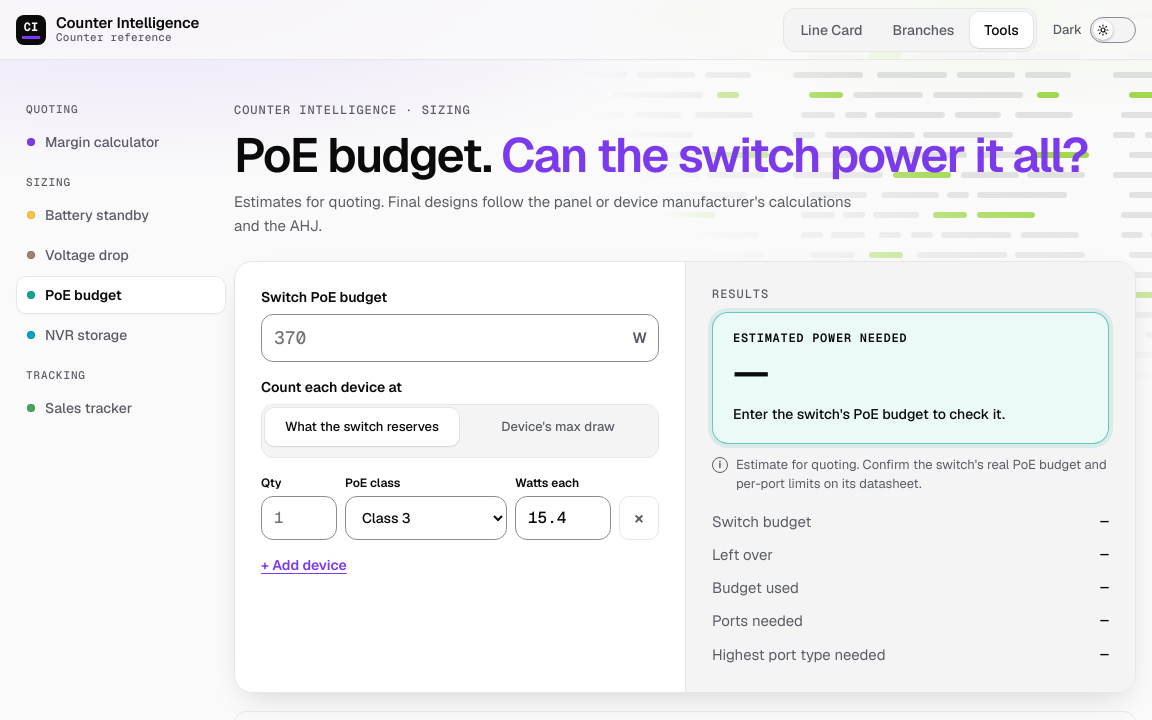
Scenario: Sizing tools › PoE budget inputs per mode (#54) and incomplete rows (#60) › a wattage without a quantity points at the quantity
Check the radio button with test id "poe-basis-device": (558, 427) [461, 408, 655, 446]
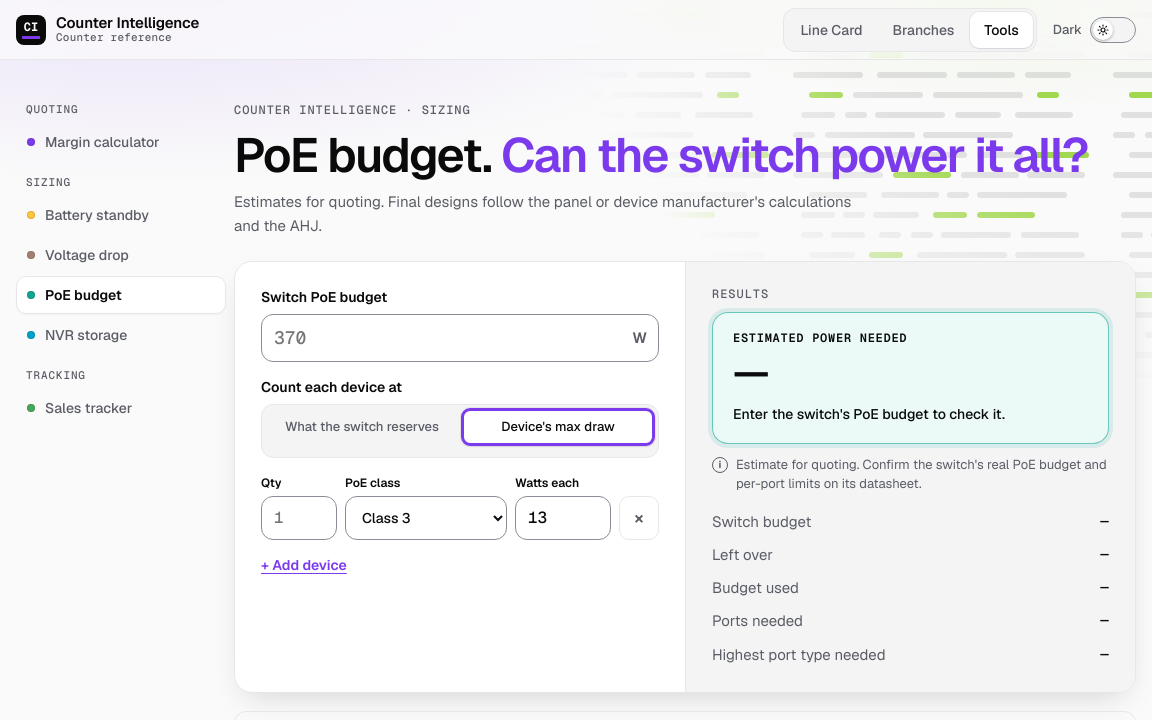
Select "Known watts" in the dropdown with test id "poe-class": (426, 518) [345, 496, 507, 540]
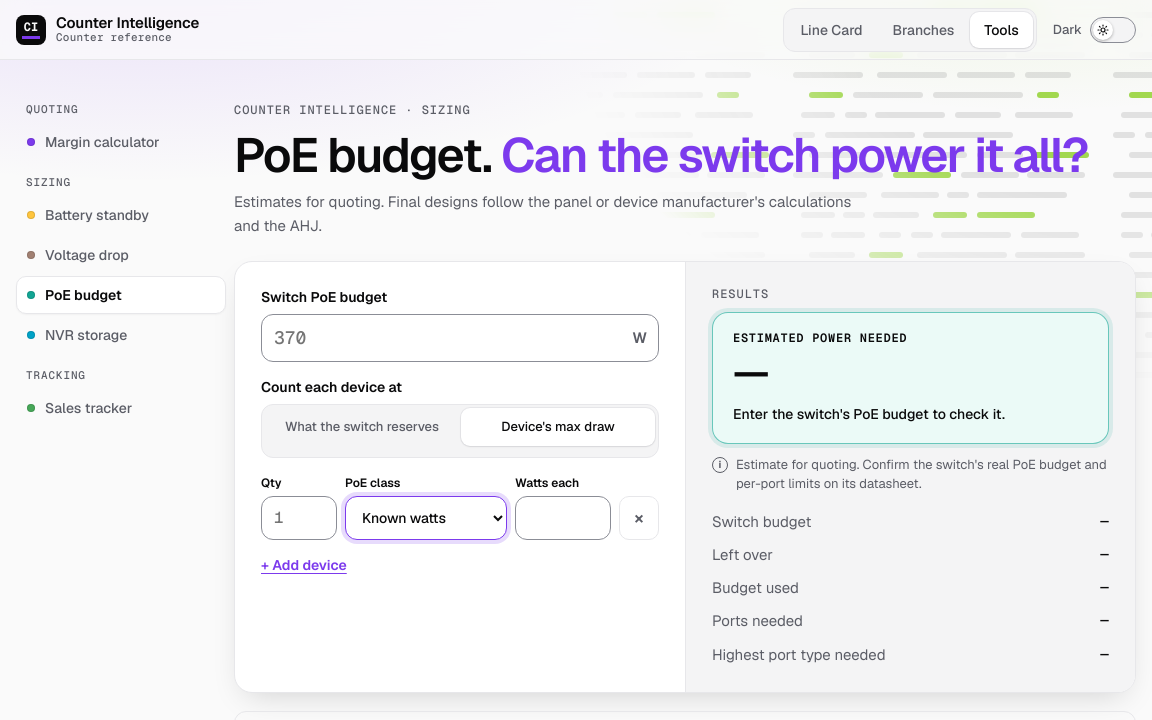
In the field with test id "poe-watts": (563, 518) [515, 496, 611, 540], type "10"
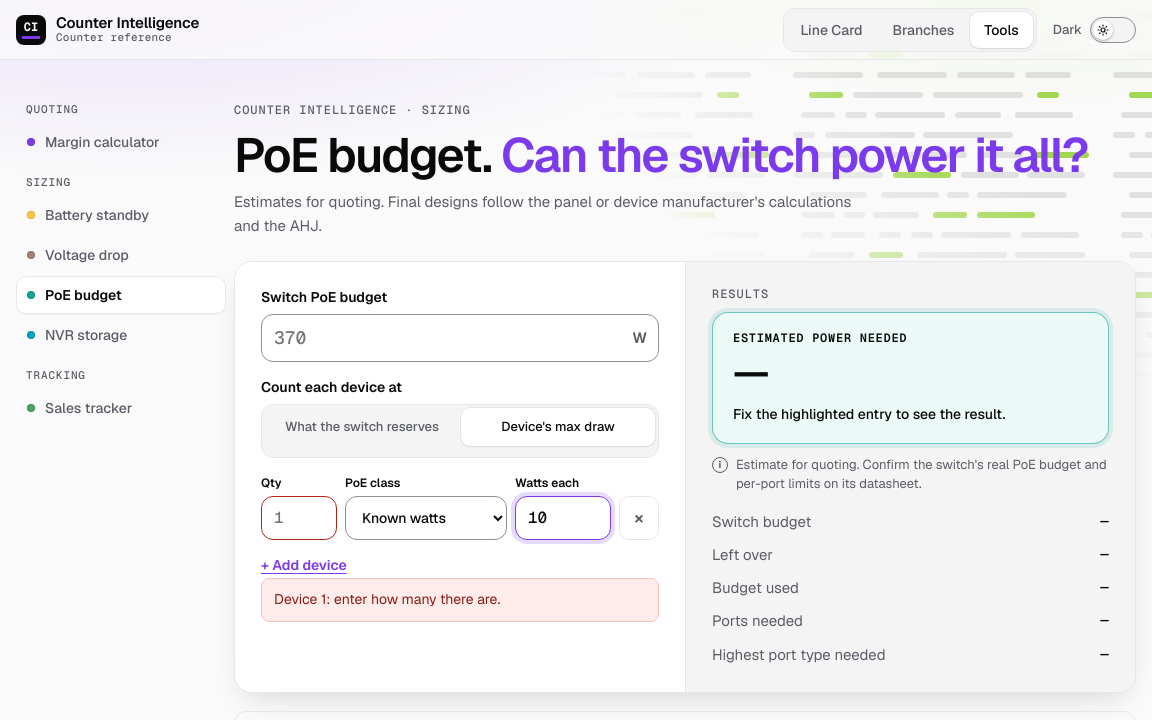
Expected: the message with test id "poe-message" reads "Device 1: enter how many there are.", [261, 578, 659, 622]
